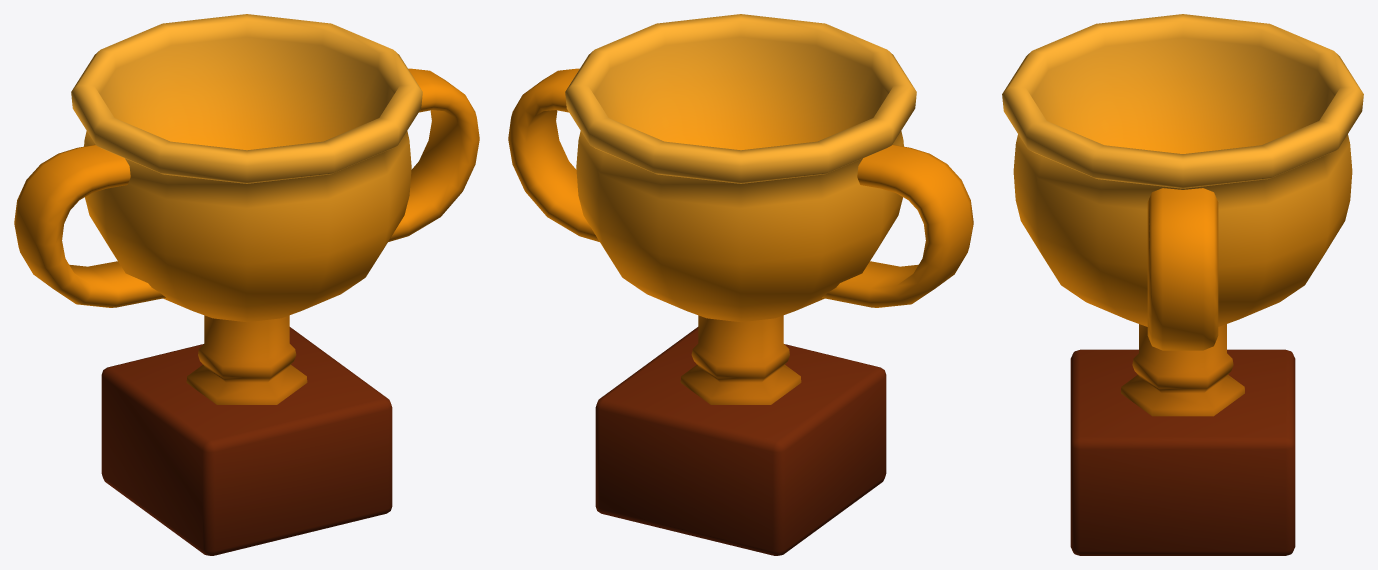
File: Collectable_Trophy_01.fbx
3 views of the same model, side by side, from view 1: azimuth 30°, elevation 25°; view 2: azimuth 150°, elevation 25°; view 3: azimuth 270°, elevation 25° (orthographic). The views are drawn at different scales.
Parts seen in each view (by area): view 1: Collectable_Trophy_01; view 2: Collectable_Trophy_01; view 3: Collectable_Trophy_01.
Boxes of the visible parts, x1,y1,x2,y2 form: Collectable_Trophy_01: (14,14,479,555); Collectable_Trophy_01: (508,14,973,555); Collectable_Trophy_01: (1002,14,1363,555).
Bounding box in the file's own units: 82.5 × 73.46 × 56.74.
